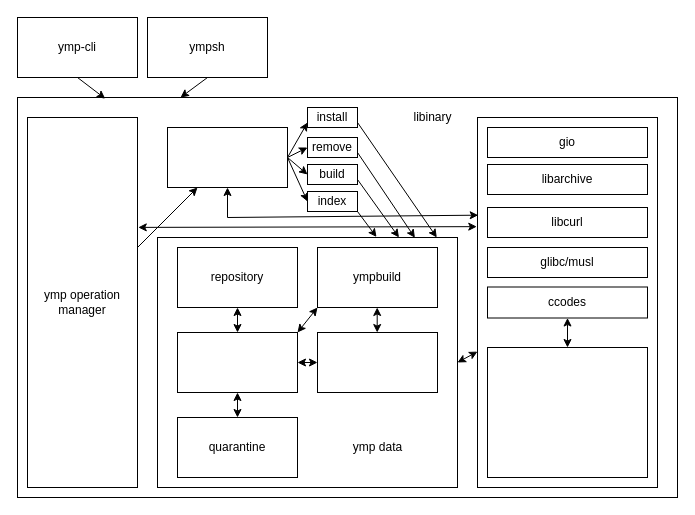
Image size: 695x515. Some labels were removed from this diagram. The box of each missing label's shape, as (x1, y1, x2, y2) in pixels:
C source codes: (486, 346, 648, 478)
dependency: (316, 332, 438, 392)
operations: (166, 126, 288, 188)
package: (176, 332, 298, 392)
